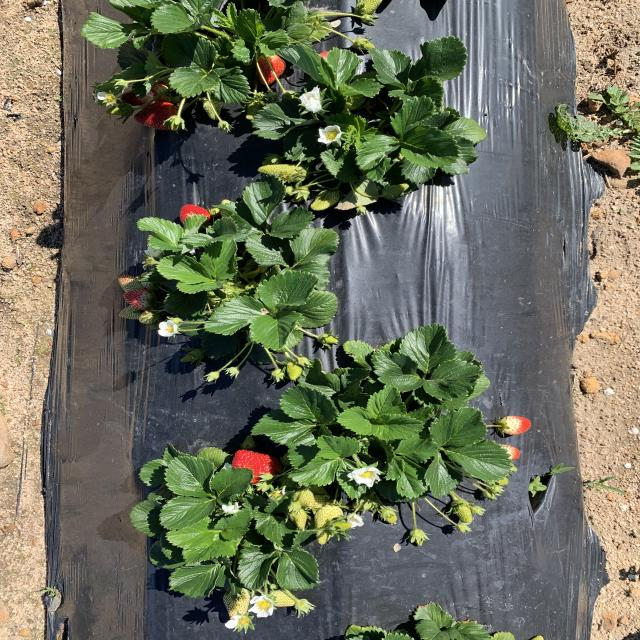unripe: (232, 448, 296, 488), (129, 101, 191, 132), (118, 82, 176, 106), (316, 48, 352, 86), (175, 203, 218, 231), (253, 53, 287, 86)
